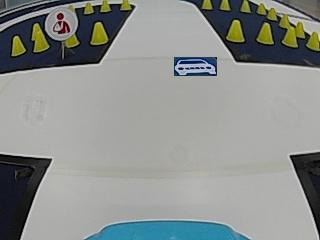cone: (32, 24, 49, 50), (226, 19, 245, 42), (90, 21, 108, 45), (257, 22, 273, 44), (11, 35, 26, 55), (283, 27, 297, 47), (306, 30, 319, 50), (65, 33, 79, 47), (100, 0, 111, 13), (119, 0, 131, 11), (83, 2, 94, 14), (219, 0, 230, 11), (240, 1, 251, 12), (267, 7, 277, 19), (257, 2, 267, 14), (201, 0, 212, 10)
patient: (46, 7, 77, 40)
